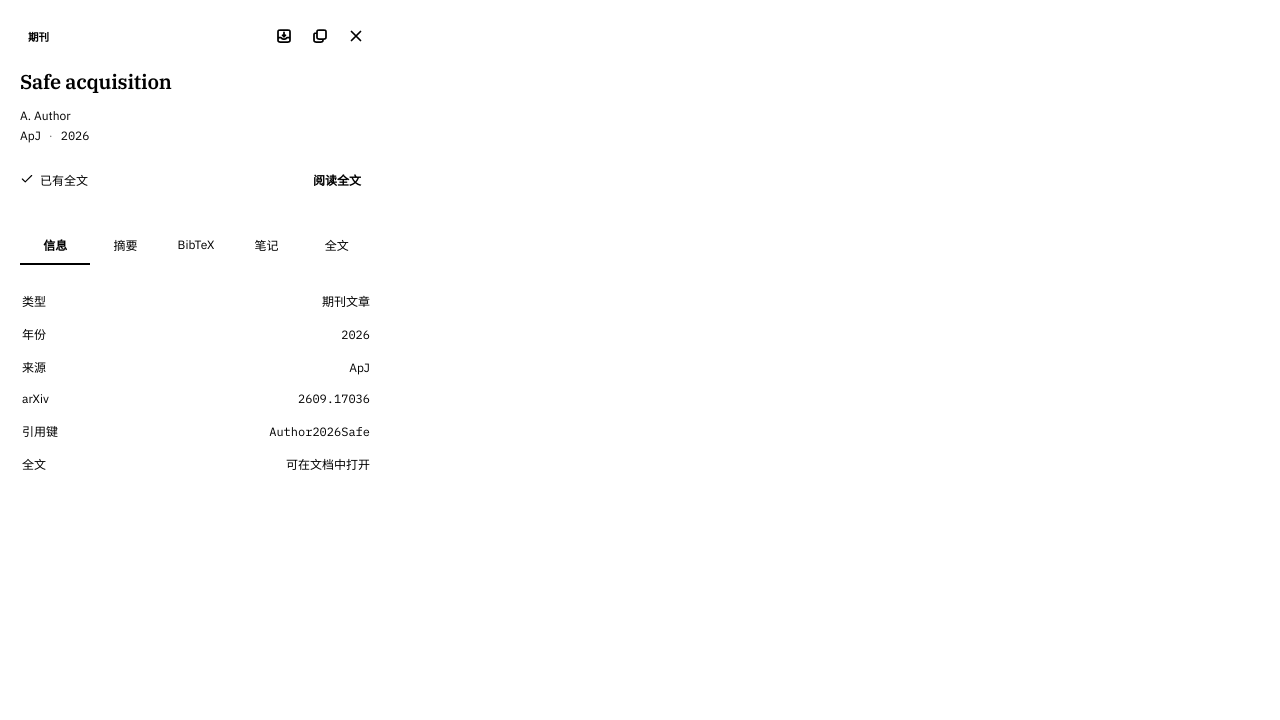
RefDetail full-text acquisition › keeps scene C blocked and never uses a displayed source or Doc prefix as arXiv eligibility
Click the tab "全文".
click(337, 246)  # box [302,227,372,265]
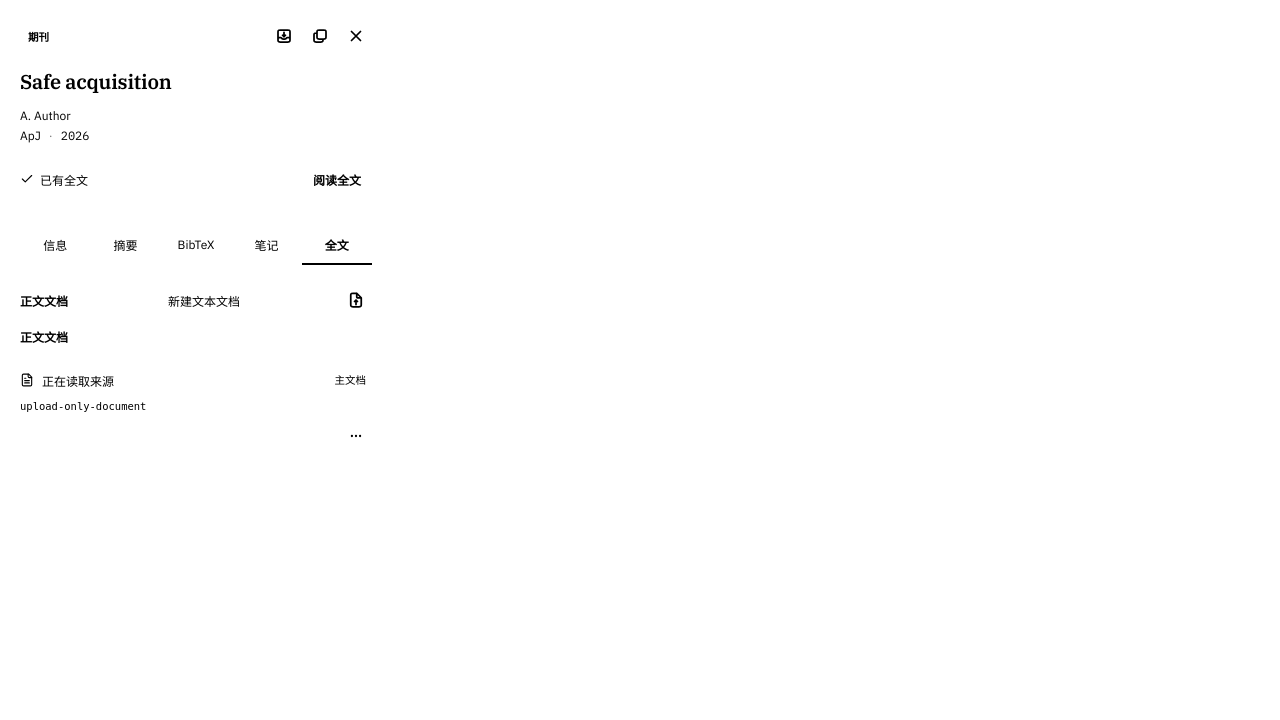
Click the button named "添加 / 更新全文…".
click(356, 300)  # box [340,284,372,316]
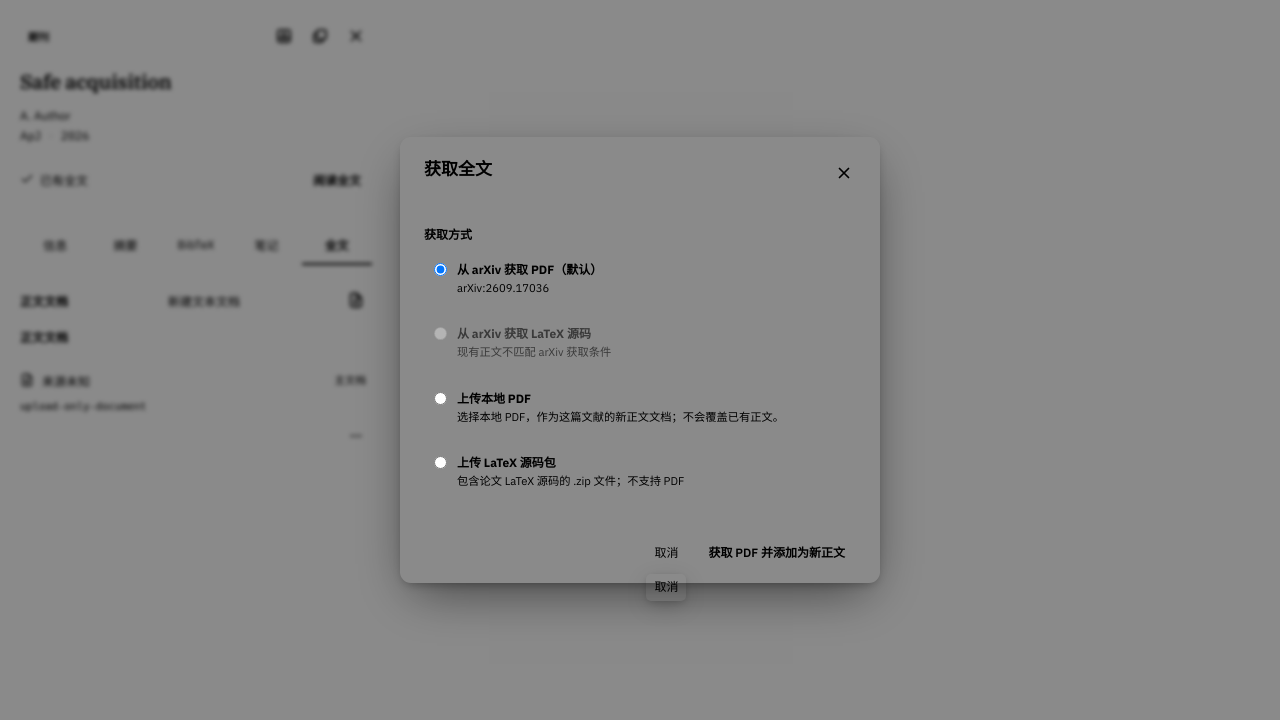
Expected: the radio button labelled "从 arXiv 获取 LaTeX 源码 现有正文不匹配 arXiv 获取条件" is disabled, [434,327,447,340]
Expected: the text "现有正文不匹配 arXiv 获取条件" is shown, [457,344,611,359]
